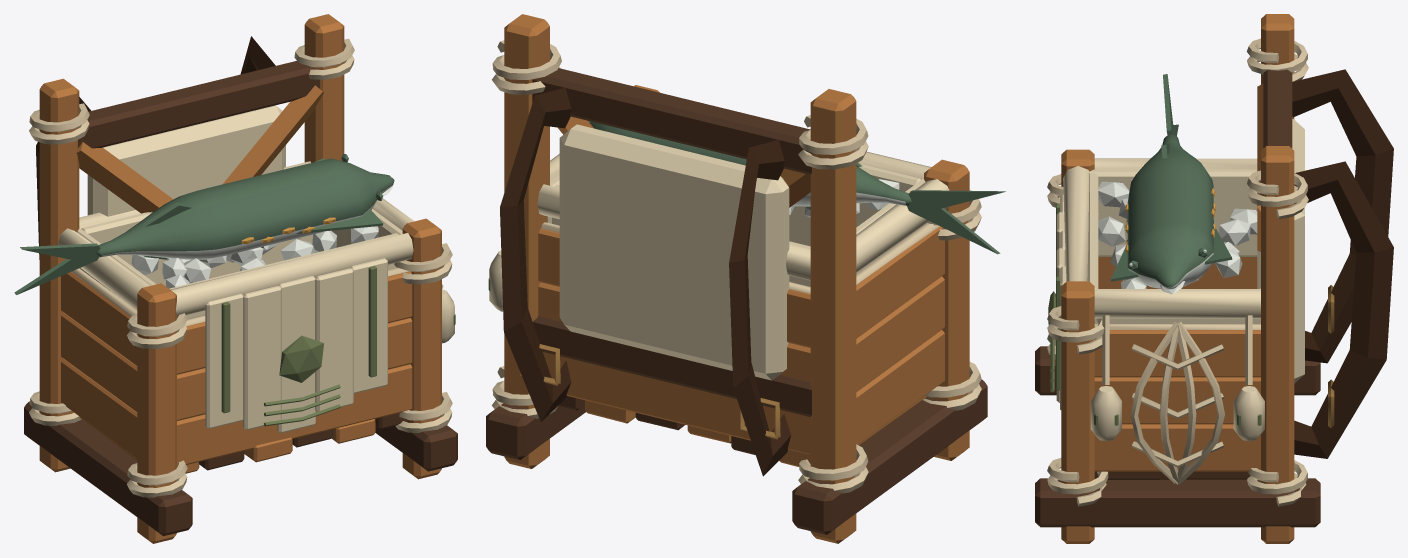
Rendered from prop_trade_pack_pike_a.glb.
3 views of the same model, side by side, from view 1: azimuth 30°, elevation 25°; view 2: azimuth 150°, elevation 25°; view 3: azimuth 270°, elevation 25° (orthographic). The views are drawn at different scales.
Parts seen in each view (by area): view 1: prop_trade_pack_pike_a_LOD0; view 2: prop_trade_pack_pike_a_LOD0; view 3: prop_trade_pack_pike_a_LOD0.
Boxes of the visible parts, bbox=[...] form: prop_trade_pack_pike_a_LOD0: bbox=[14, 14, 457, 543]; prop_trade_pack_pike_a_LOD0: bbox=[486, 14, 1005, 543]; prop_trade_pack_pike_a_LOD0: bbox=[1035, 14, 1393, 543].
Size of what is drawn, in the model's own units: 1.06 by 0.96 by 0.8041.
